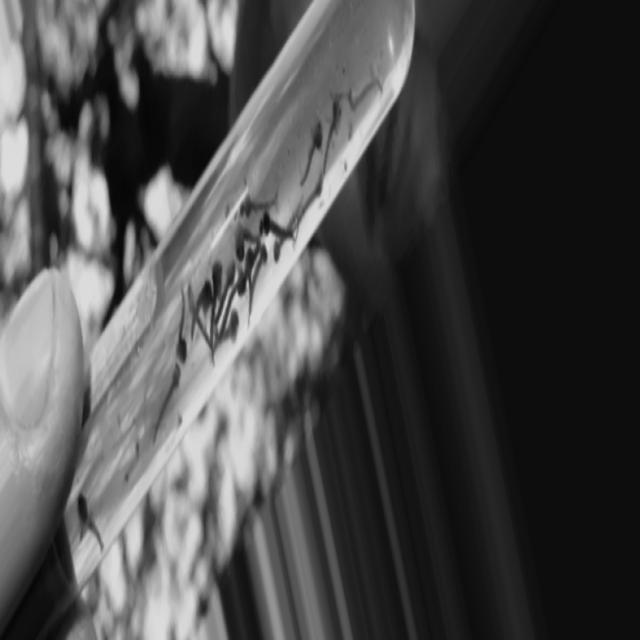larvas: (216, 266, 249, 343), (271, 200, 303, 264), (187, 276, 215, 342), (154, 366, 180, 437), (184, 283, 211, 346), (208, 259, 224, 358), (74, 498, 104, 550), (298, 121, 322, 183), (215, 255, 237, 322), (322, 101, 340, 170), (348, 72, 380, 110), (175, 292, 187, 366), (258, 217, 294, 238), (234, 224, 258, 253), (238, 196, 276, 213), (303, 184, 323, 212), (222, 314, 238, 346), (246, 252, 255, 307), (256, 244, 267, 283)
